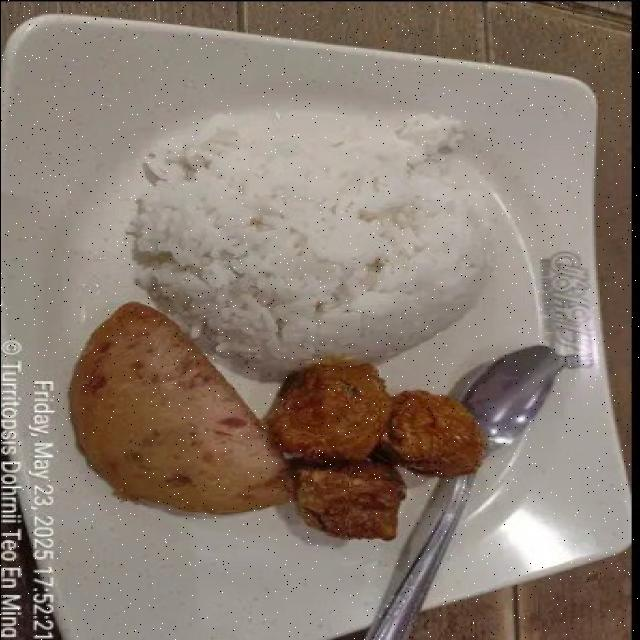Pork: (71, 302, 292, 513), (266, 363, 485, 540)
Rice: (127, 111, 496, 380)
